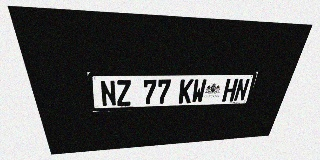7: (142, 80, 157, 105), (156, 79, 171, 104)
H: (222, 79, 239, 102)
K: (178, 79, 194, 103)
N: (99, 80, 117, 107), (233, 78, 250, 101)
W: (191, 79, 207, 103)
Z: (116, 80, 131, 106)
